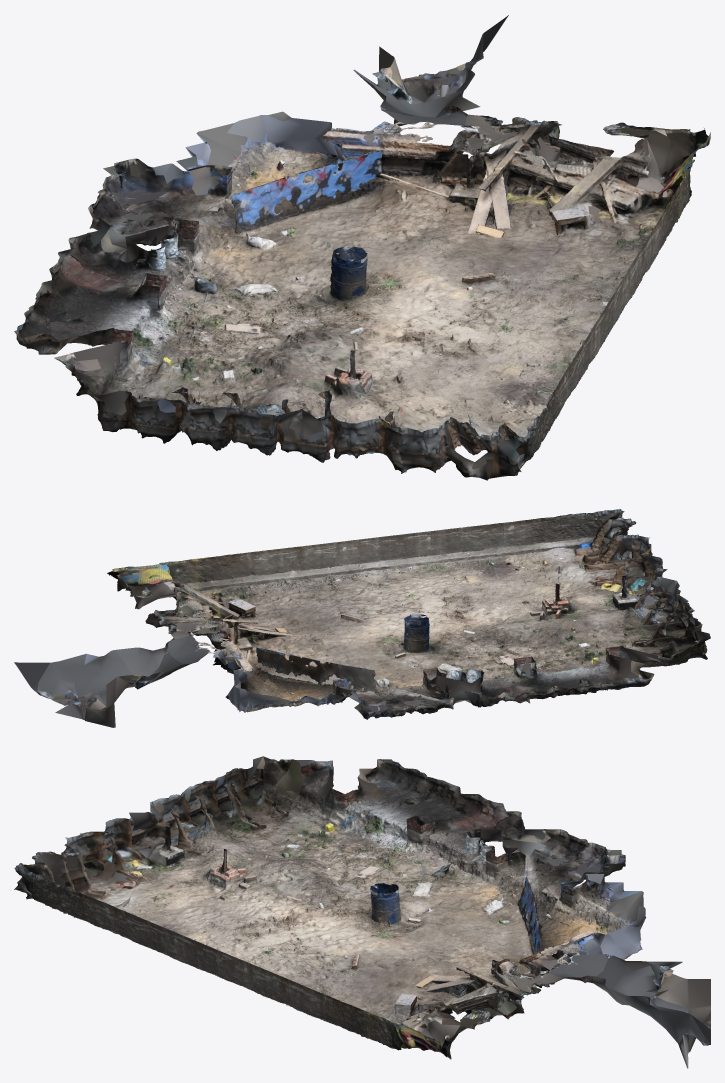
File: feldendlich.glb
3 renders of one model, top to bottom at view 1: azimuth 30°, elevation 25°; view 2: azimuth 150°, elevation 25°; view 3: azimuth 270°, elevation 25°, orthographic. The views are drawn at different scales.
Visible parts, largest first — view 1: Gleishalle; view 2: Gleishalle; view 3: Gleishalle.
Part boxes in pixels (left/top/right/bottom): Gleishalle: left=14, top=15, right=710, bottom=480; Gleishalle: left=14, top=509, right=710, bottom=727; Gleishalle: left=14, top=756, right=710, bottom=1068.
Bounding box in the file's own units: 12.99 × 1.2 × 13.41.
1 material, 1 textured.
